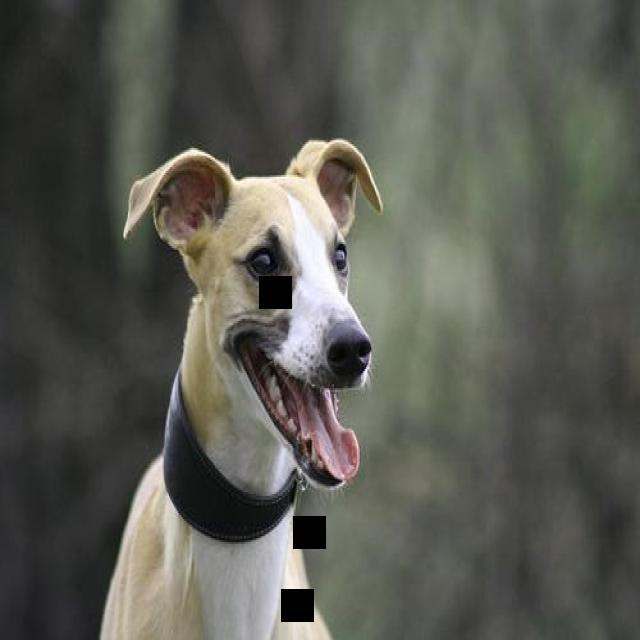adult_dog: (98, 136, 383, 640)
